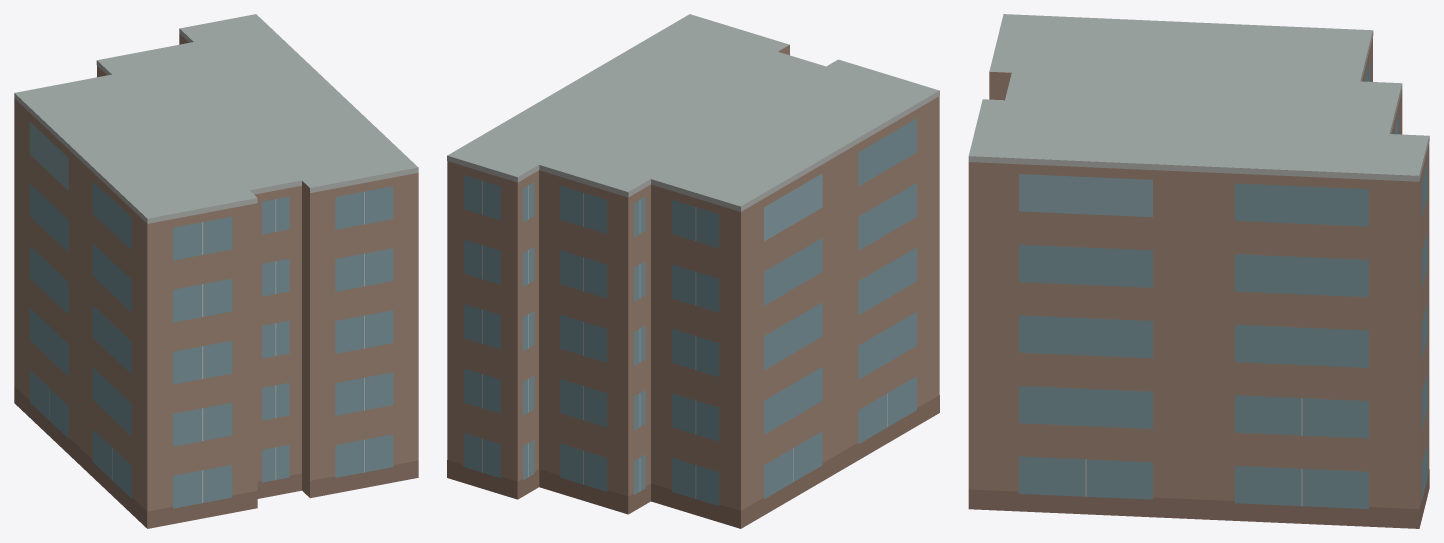
The model's file is survey-upis-32686364.glb.
3 renders of one model, left to right at view 1: azimuth 30°, elevation 25°; view 2: azimuth 150°, elevation 25°; view 3: azimuth 270°, elevation 25°, orthographic. The views are drawn at different scales.
Parts seen in each view (by area): view 1: survey-upis-32686364.tmp; view 2: survey-upis-32686364.tmp; view 3: survey-upis-32686364.tmp.
Part boxes in pixels (x1,y1,x2,y2): survey-upis-32686364.tmp: (14, 14, 418, 528); survey-upis-32686364.tmp: (447, 14, 939, 528); survey-upis-32686364.tmp: (968, 14, 1429, 528).
Size of the model in its own units: 14.46 by 14.7 by 17.4.
